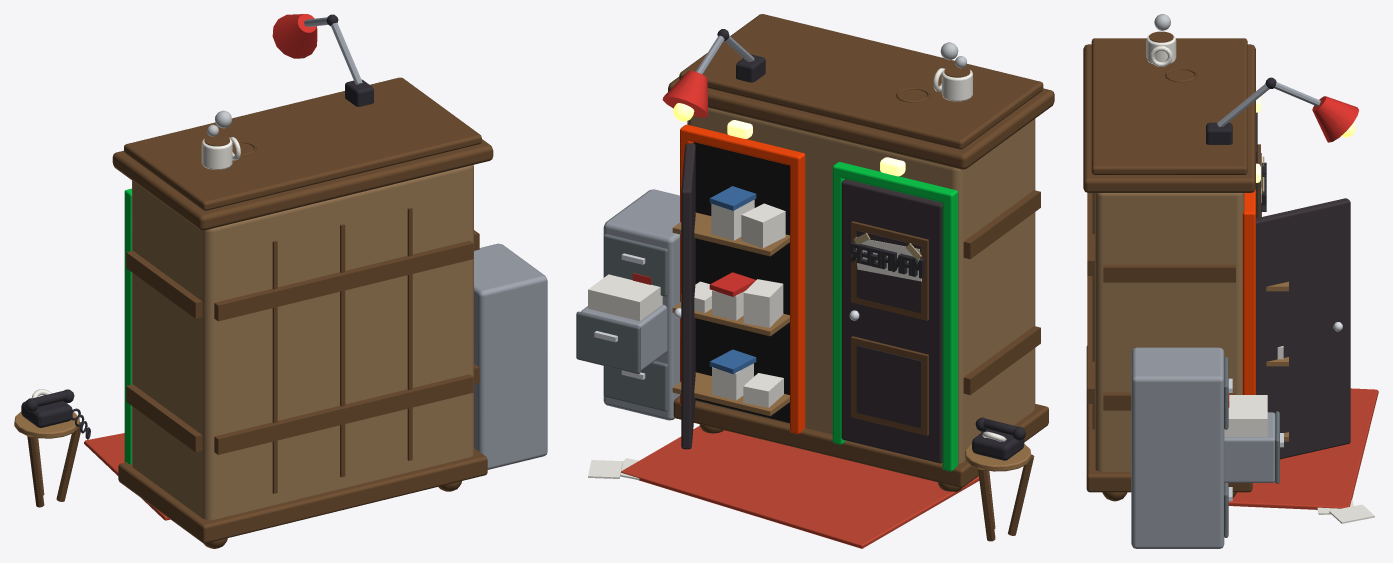
File: building_management_office_t1.glb
The picture shows the model from 3 angles, left to right: view 1: azimuth 30°, elevation 25°; view 2: azimuth 150°, elevation 25°; view 3: azimuth 270°, elevation 25°; orthographic projection. The views are drawn at different scales.
Visible parts, largest first — view 1: Carcass, Crown, Cabinet, Skirt, Cornice, BattenB0, BattenB1, BackPly.Groove, Entry.Jamb, BattenS0, BattenS1, Lamp.Shade (+6 smaller); view 2: Carcass, Crown, Rug, Entry.Leaf, Cavity, Cornice, Skirt, Cabinet, Entry.Jamb, Entry.PanelIn0, Exit.Leaf, Exit.Jamb (+35 smaller); view 3: Carcass, Exit.Leaf, Crown, Cabinet, Rug, Cornice, Cabinet.Drawer, BattenS1.001, Exit.Jamb.001, Skirt, Cabinet.Files, Lamp.Shade (+9 smaller).
Part boxes in pixels (bbox=[...]): Carcass: bbox=[132, 165, 473, 520]; Crown: bbox=[124, 77, 481, 210]; Cabinet: bbox=[474, 243, 547, 469]; Skirt: bbox=[118, 448, 487, 543]; Cornice: bbox=[112, 139, 493, 230]; BattenB0: bbox=[214, 374, 473, 454]; BattenB1: bbox=[214, 240, 473, 321]; BackPly.Groove: bbox=[272, 207, 412, 493]; Entry.Jamb: bbox=[124, 199, 131, 464]; BattenS0: bbox=[126, 384, 202, 452]; BattenS1: bbox=[126, 251, 202, 318]; Lamp.Shade: bbox=[272, 14, 317, 58]; Carcass: bbox=[687, 107, 1035, 463]; Crown: bbox=[679, 14, 1043, 149]; Rug: bbox=[621, 425, 979, 548]; Entry.Leaf: bbox=[841, 179, 942, 463]; Cavity: bbox=[693, 142, 789, 422]; Cornice: bbox=[668, 77, 1054, 169]; Skirt: bbox=[673, 396, 1048, 487]; Cabinet: bbox=[603, 189, 679, 420]; Entry.Jamb: bbox=[942, 199, 958, 471]; Entry.PanelIn0: bbox=[856, 345, 921, 428]; Exit.Leaf: bbox=[681, 143, 695, 449]; Exit.Jamb: bbox=[790, 162, 805, 434]; Carcass: bbox=[1095, 193, 1244, 471]; Exit.Leaf: bbox=[1256, 198, 1350, 459]; Crown: bbox=[1091, 38, 1247, 174]; Cabinet: bbox=[1131, 347, 1224, 548]; Rug: bbox=[1228, 388, 1378, 509]; Cornice: bbox=[1083, 44, 1255, 192]; Cabinet.Drawer: bbox=[1224, 412, 1275, 482]; BattenS1.001: bbox=[1103, 264, 1235, 282]; Exit.Jamb.001: bbox=[1242, 220, 1255, 394]; Skirt: bbox=[1086, 346, 1252, 492]; Cabinet.Files: bbox=[1224, 395, 1267, 436]; Lamp.Shade: bbox=[1312, 96, 1358, 142].
Bounding box in the file's own units: 3 × 2.7 × 1.78.
